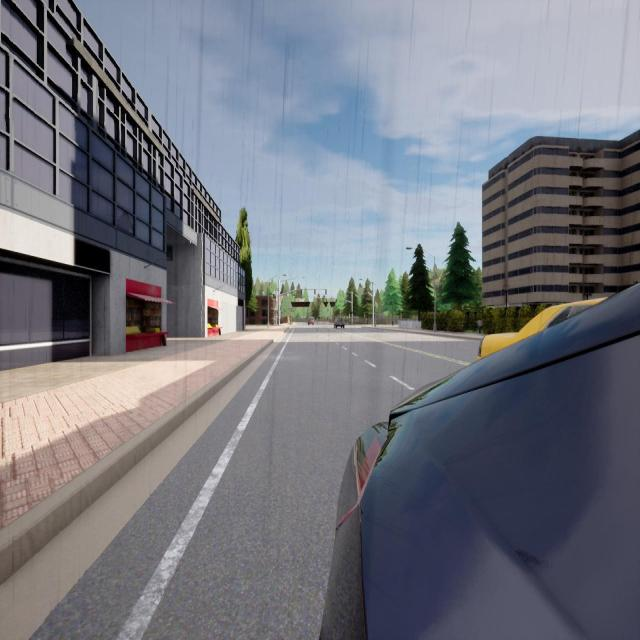Vehicle: (321, 284, 639, 638), (477, 299, 604, 360), (334, 320, 345, 329), (308, 317, 314, 325)
traffic_light: (314, 290, 316, 294), (301, 290, 302, 294), (352, 311, 353, 314), (318, 299, 319, 302), (327, 299, 327, 302), (336, 299, 336, 302), (326, 290, 326, 294)
